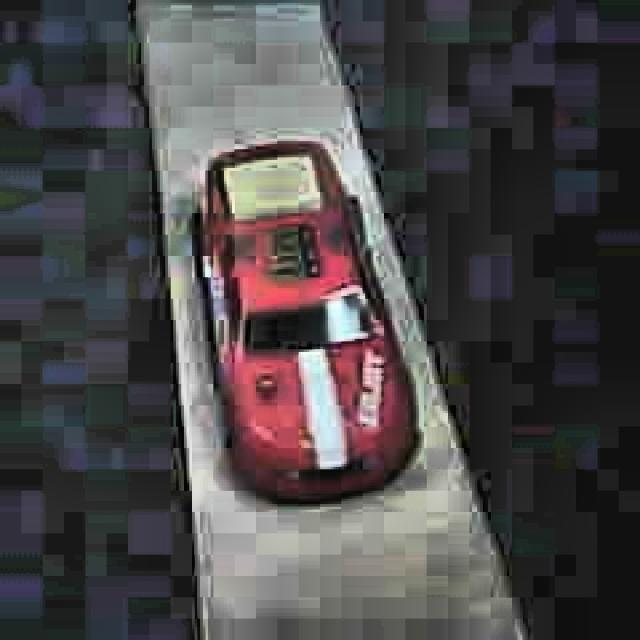car: (190, 140, 422, 510)
